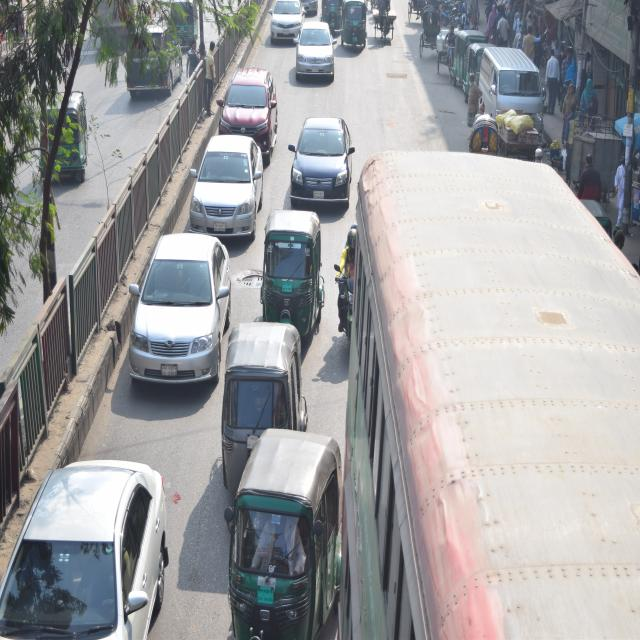car: (353, 149, 640, 640), (0, 436, 167, 640), (0, 81, 341, 153), (125, 228, 232, 387), (187, 132, 265, 244), (127, 12, 182, 111), (217, 68, 279, 143), (293, 21, 336, 84), (267, 0, 303, 48)
microbus: (476, 44, 546, 143)
motorbike: (331, 246, 361, 344)
